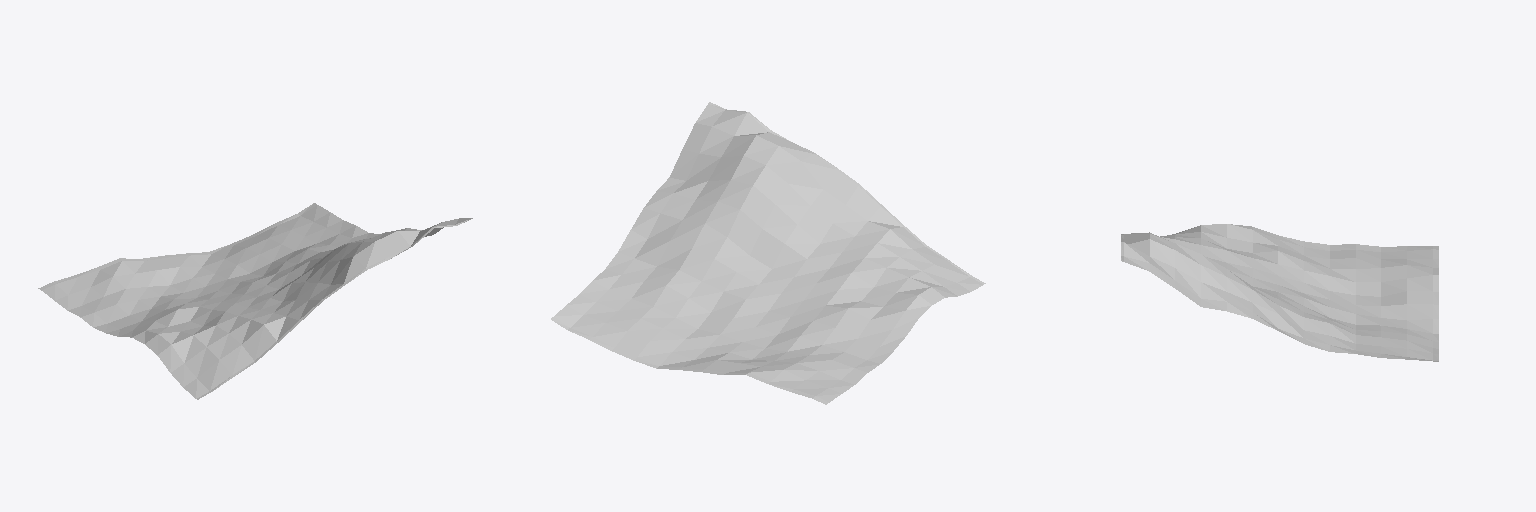
Rendered from Landscape.016.obj.
3 views of the same model, side by side, from view 1: azimuth 30°, elevation 25°; view 2: azimuth 150°, elevation 25°; view 3: azimuth 270°, elevation 25° (orthographic).
Visible parts, largest first — view 1: Landscape.016; view 2: Landscape.016; view 3: Landscape.016.
Boxes of the visible parts, box(x1,y1,x2,y2) form: Landscape.016: box(38, 203, 472, 399); Landscape.016: box(551, 102, 985, 404); Landscape.016: box(1121, 224, 1438, 361).
Bounding box in the file's own units: 32 × 13.79 × 32.